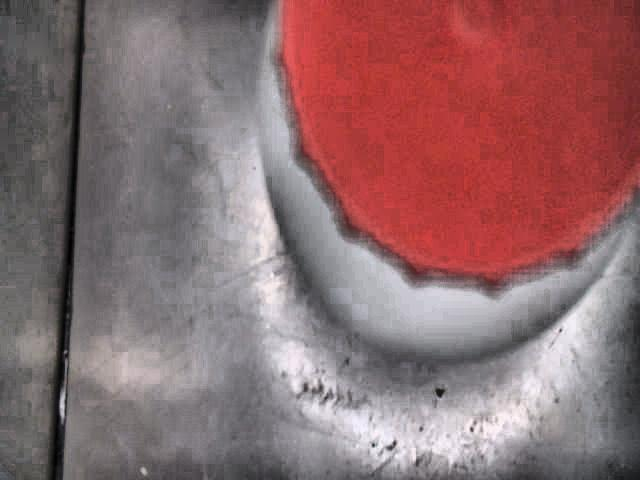Plastic: (255, 0, 640, 365)
